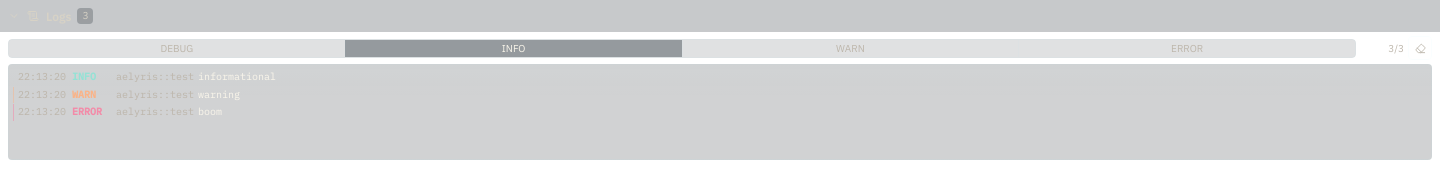
Scenario: LogsPanel › filters by minimum level when a higher level button is selected
Expected: the text "boom" is shown, [198,105,222,118]
Click the button "ERROR" at (1187, 48), box [1018,40,1355,56]
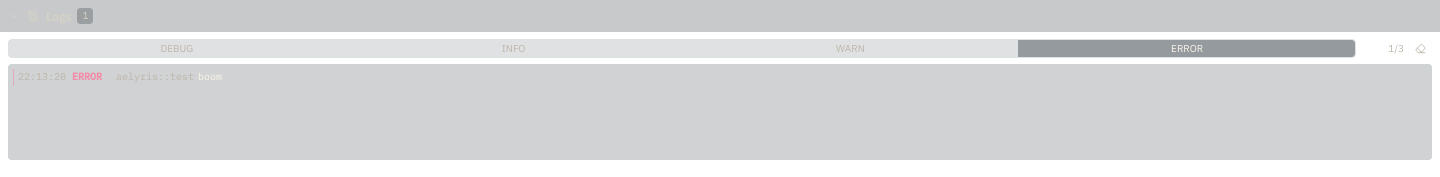
Expected: the text "informational" is gone
Expected: the text "warning" is gone
Expected: the text "1/3" is shown, [1388,42,1404,54]
